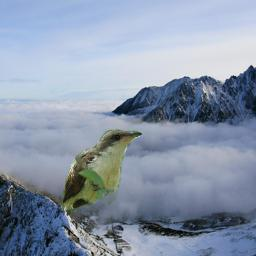Cuckoo: (60, 129, 142, 212)
